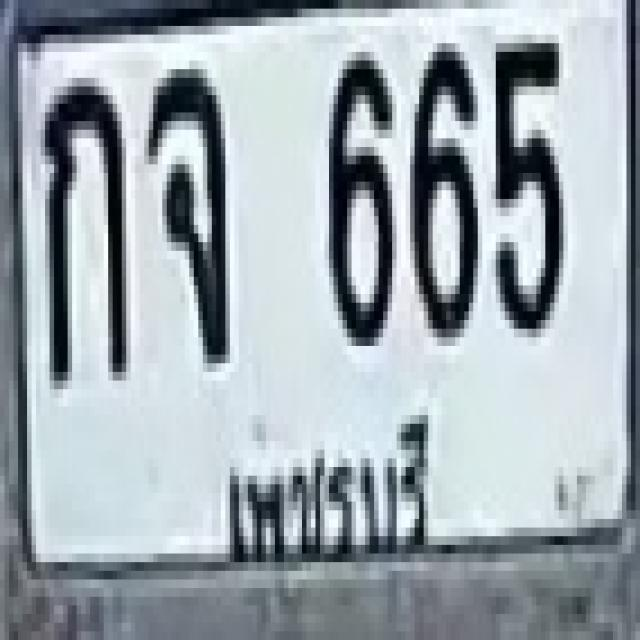5: (491, 34, 559, 328)
6: (324, 44, 388, 338), (410, 34, 473, 328)
A01: (41, 74, 126, 376)
A08: (144, 65, 226, 359)
PBI: (204, 405, 452, 581)
